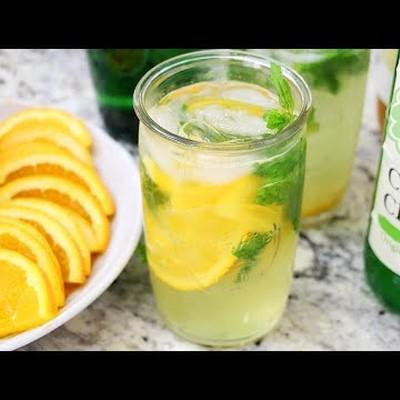soju: (361, 45, 399, 325)
